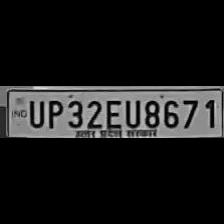1: (198, 97, 218, 128)
2: (84, 97, 102, 129)
3: (64, 97, 84, 128)
6: (160, 97, 178, 129)
7: (180, 97, 198, 129)
8: (142, 97, 160, 128)
E: (102, 97, 120, 129)
P: (44, 97, 62, 129)
U: (122, 96, 142, 128), (25, 97, 43, 128)
